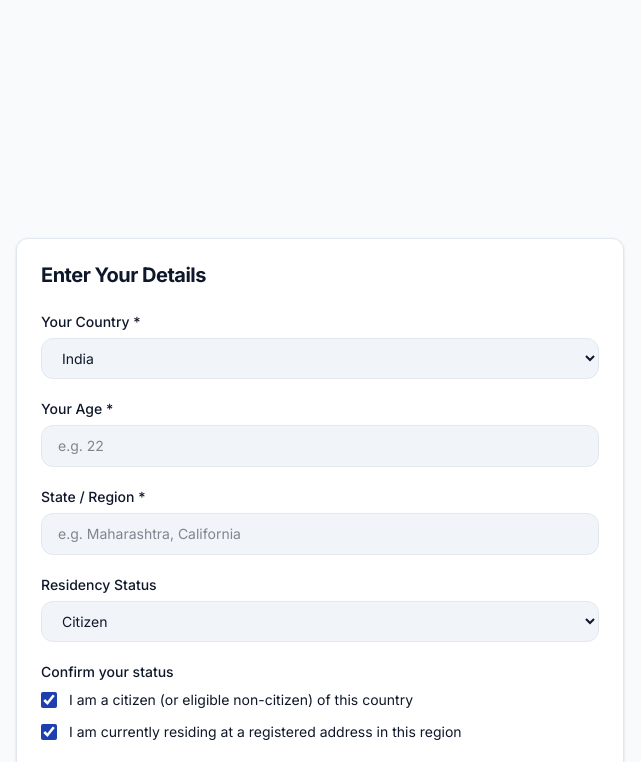
Test: EligibilityClient Component › shows disclaimer in result
Type "Delhi" into the field labelled "State / Region *" at coordinates (320, 534), box [41,513,599,555]
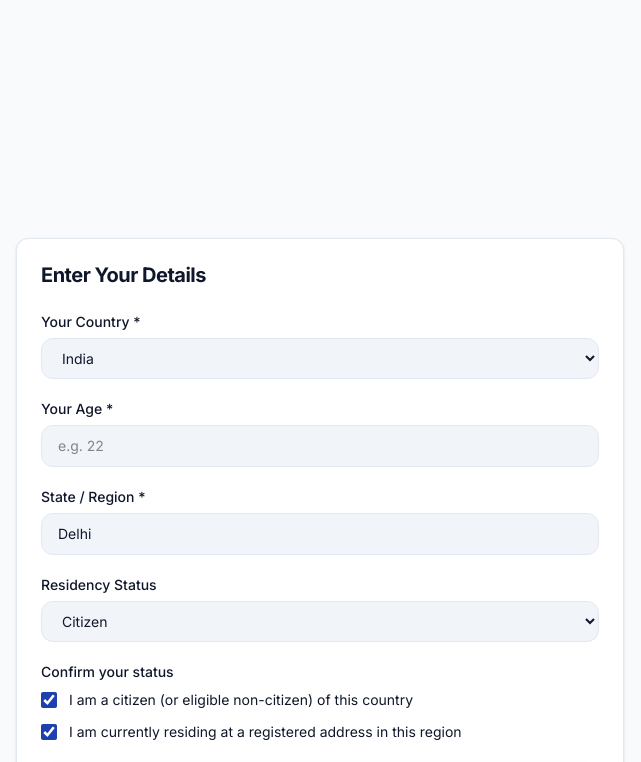
Type "22" into the number field labelled "Your Age *" at coordinates (320, 446), box [41,425,599,467]
(page scrolled)
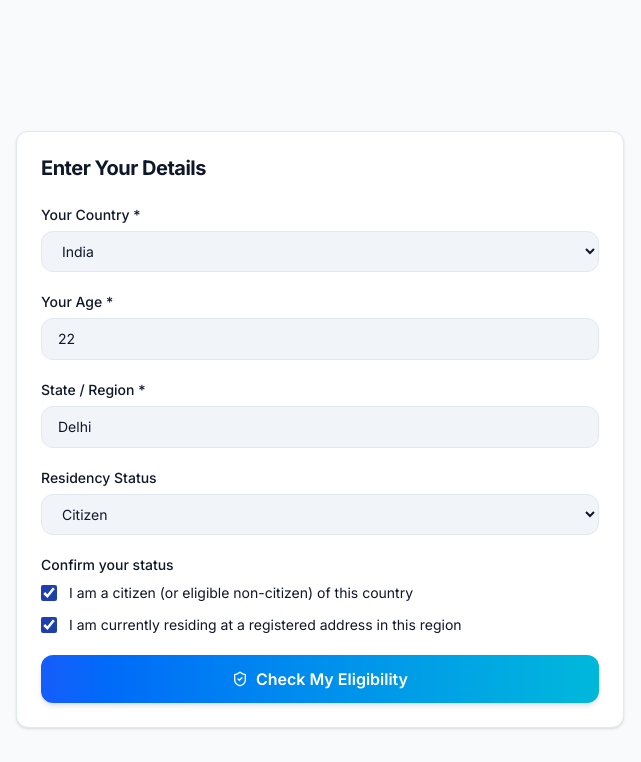
Click the button "Check My Eligibility" at coordinates (320, 679), box [41,655,599,703]
(page scrolled)
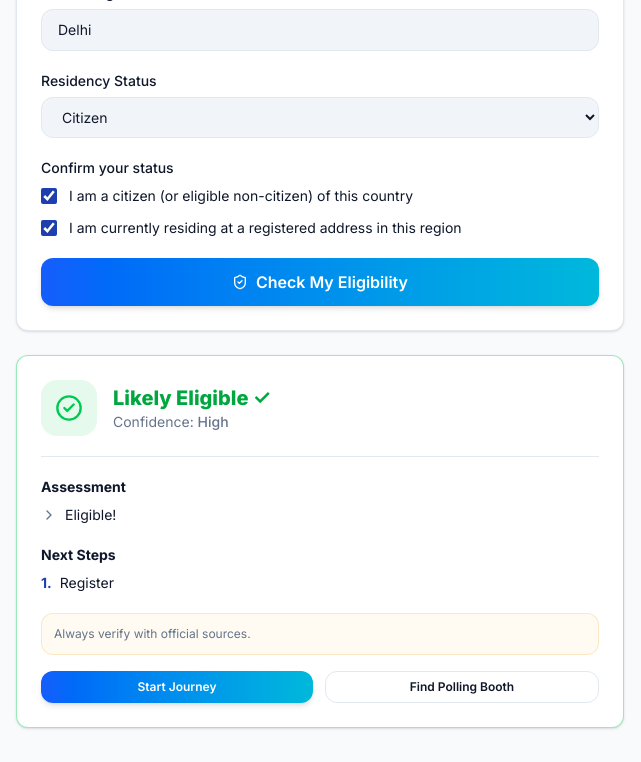
Result: the text "Always verify with official sources." is shown at [41,613,599,655]
